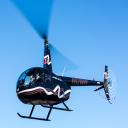helicopter: (17, 1, 121, 122)
